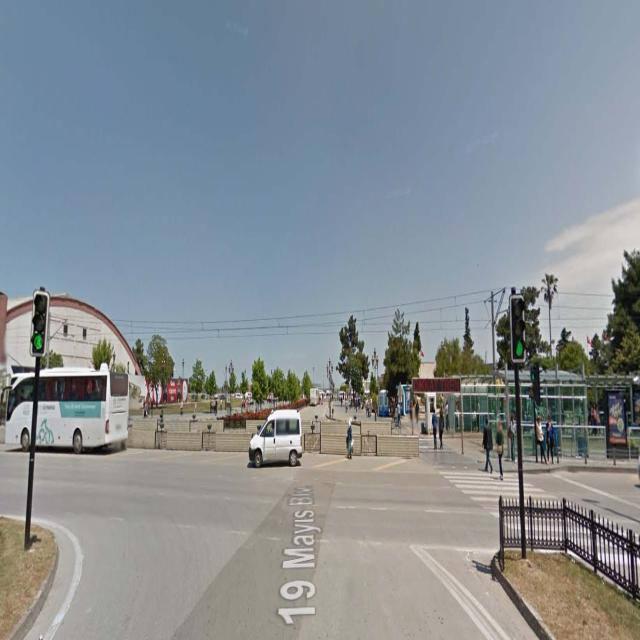yesil: (512, 298, 524, 359), (33, 294, 45, 353)
